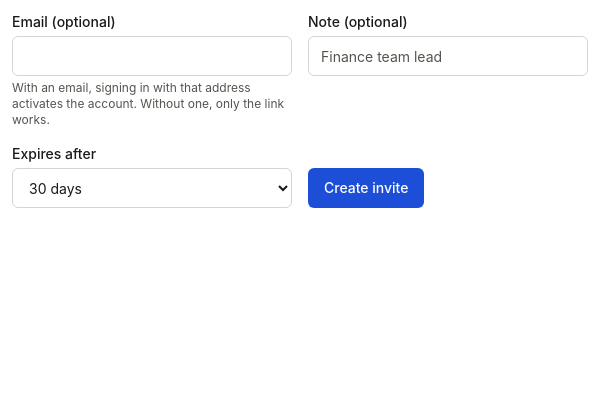
PlatformInviteForm › shows the one-time link after issuing
Type "jane@org.example" into the field labelled "Email (optional)" at (152, 56), box [12,36,292,76]
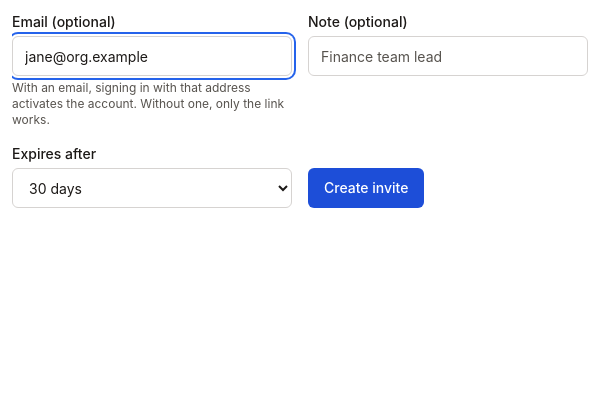
Click the button "Create invite" at (366, 188), box [308,168,424,208]
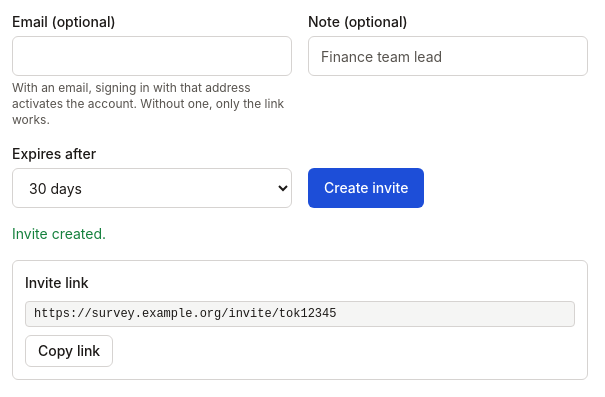
Check: the field named "Invite link" holds "https://survey.example.org/invite/tok12345", box [25,301,575,327]
